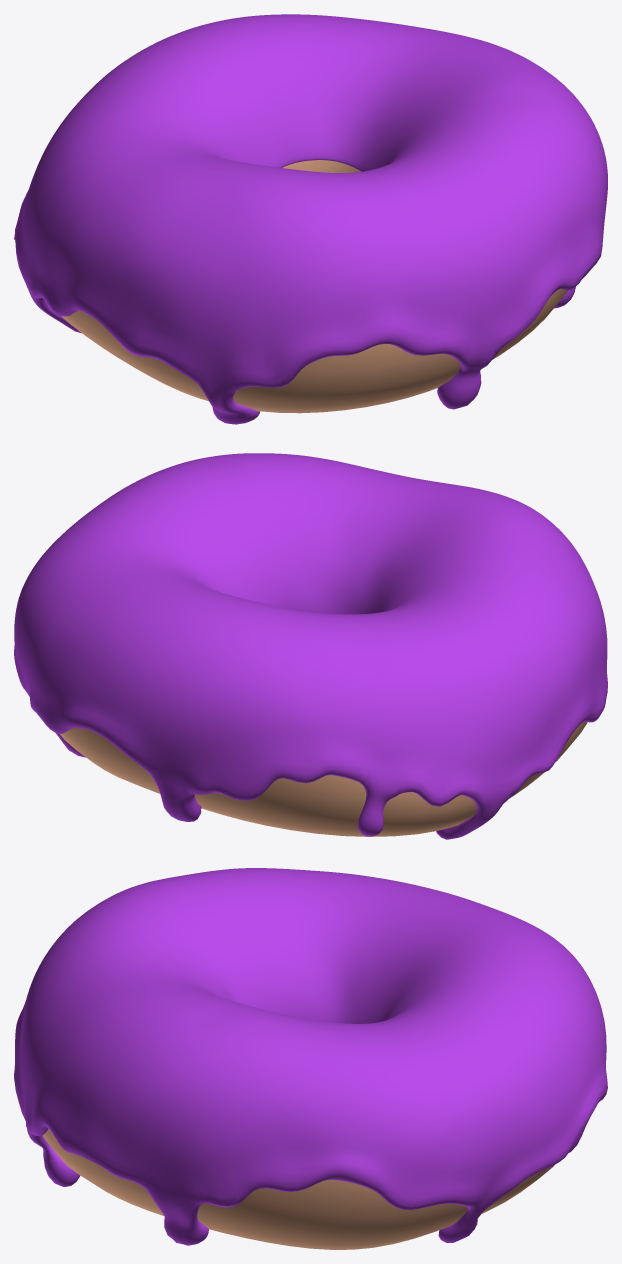
File: Donut.glb
3 views of the same model, one above another, from view 1: azimuth 30°, elevation 25°; view 2: azimuth 150°, elevation 25°; view 3: azimuth 270°, elevation 25° (orthographic). The views are drawn at different scales.
Parts seen in each view (by area): view 1: Icing, Donut; view 2: Icing, Donut; view 3: Icing, Donut.
Part boxes in pixels (box(x1,y1,x2,y2)): Icing: box(14, 14, 607, 424); Donut: box(61, 160, 568, 413); Icing: box(14, 453, 607, 839); Donut: box(60, 721, 587, 836); Icing: box(14, 868, 607, 1245); Donut: box(42, 1129, 554, 1249).
Bounding box in the file's own units: 1.39 × 0.5972 × 1.35.
